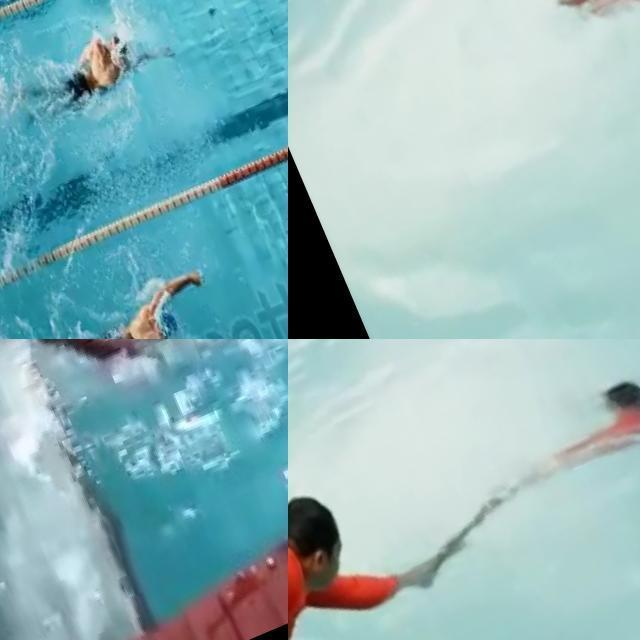3: (522, 0, 640, 159), (567, 339, 640, 494)
6: (0, 339, 288, 473), (0, 0, 185, 146), (20, 243, 249, 339)
drowning: (288, 457, 420, 640)
